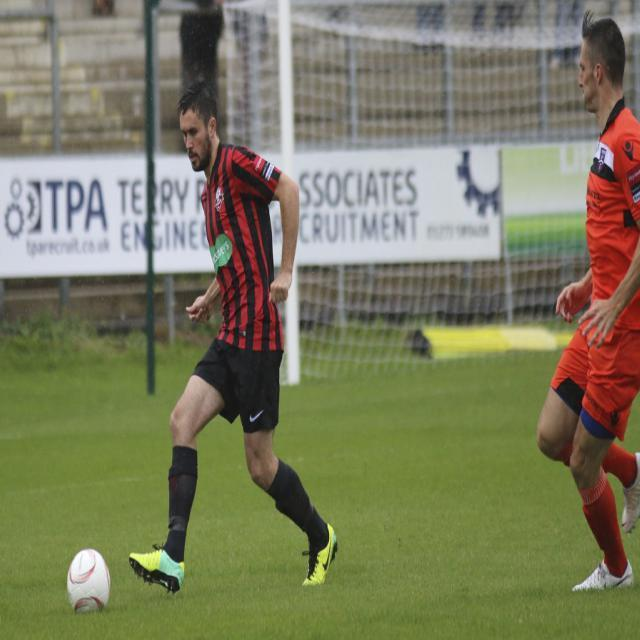football: (38, 532, 136, 625)
